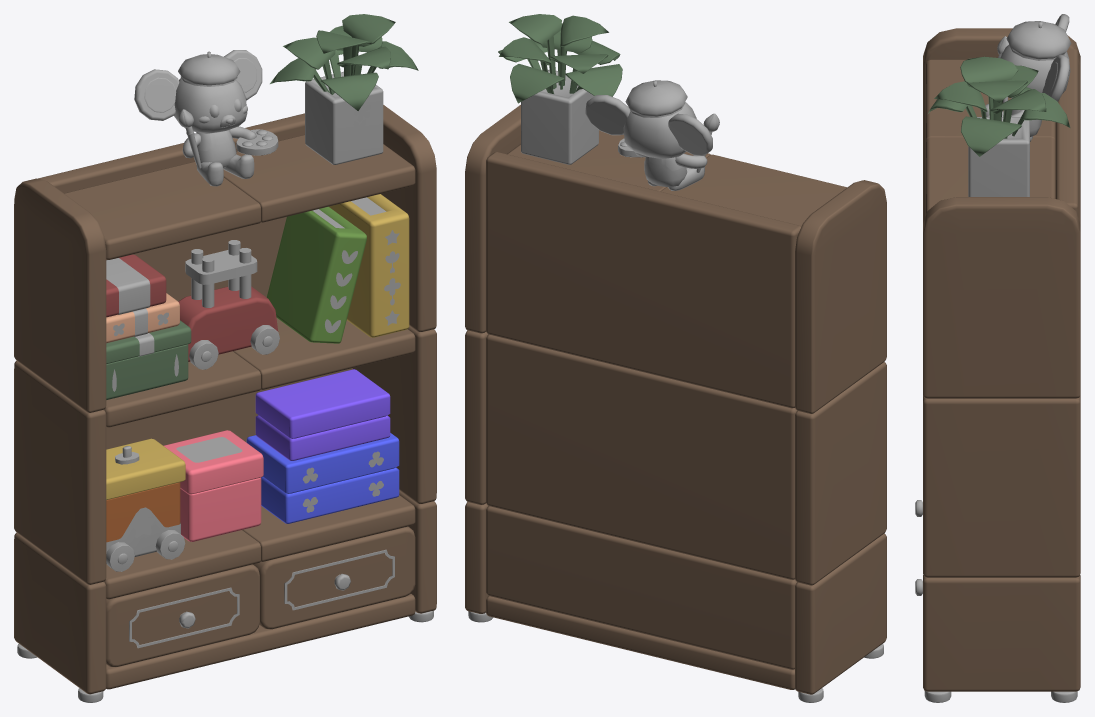
The model's file is BookShelf.fbx.
The picture shows the model from 3 angles, left to right: view 1: azimuth 30°, elevation 25°; view 2: azimuth 150°, elevation 25°; view 3: azimuth 270°, elevation 25°; orthographic projection. The views are drawn at different scales.
Visible parts, largest first — view 1: M_BookShelf, S_BookShelf, DL_BookShelf_8, DL_BookShelf_13, DL_BookShelf_1, DL_BookShelf_80, DL_BookShelf_77, DL_BookShelf_75, DL_BookShelf_5, DL_BookShelf_88, DL_BookShelf_9, DL_BookShelf_14 (+4 smaller); view 2: M_BookShelf, S_BookShelf, DL_BookShelf_13, DL_BookShelf_9; view 3: M_BookShelf, S_BookShelf, DL_BookShelf_13, D_BookShelf_2, D_BookShelf_4.
Boxes of the visible parts, left/top/right/bottom form: M_BookShelf: left=14, top=71, right=436, bottom=694; S_BookShelf: left=134, top=14, right=418, bottom=158; DL_BookShelf_8: left=106, top=258, right=150, bottom=314; DL_BookShelf_13: left=178, top=51, right=240, bottom=86; DL_BookShelf_1: left=185, top=250, right=257, bottom=284; DL_BookShelf_80: left=106, top=507, right=180, bottom=563; DL_BookShelf_77: left=284, top=549, right=394, bottom=610; DL_BookShelf_75: left=129, top=587, right=239, bottom=648; DL_BookShelf_5: left=144, top=77, right=176, bottom=112; DL_BookShelf_88: left=176, top=437, right=242, bottom=462; DL_BookShelf_9: left=193, top=131, right=236, bottom=167; DL_BookShelf_14: left=189, top=340, right=218, bottom=369; M_BookShelf: left=465, top=69, right=886, bottom=694; S_BookShelf: left=498, top=14, right=712, bottom=170; DL_BookShelf_13: left=625, top=80, right=687, bottom=117; DL_BookShelf_9: left=644, top=157, right=687, bottom=187; M_BookShelf: left=923, top=28, right=1080, bottom=691; S_BookShelf: left=928, top=14, right=1070, bottom=156; DL_BookShelf_13: left=1006, top=21, right=1071, bottom=60; D_BookShelf_2: left=924, top=691, right=951, bottom=702; D_BookShelf_4: left=1051, top=691, right=1077, bottom=702.
Size of the model in its own units: 493 by 759 by 188.
